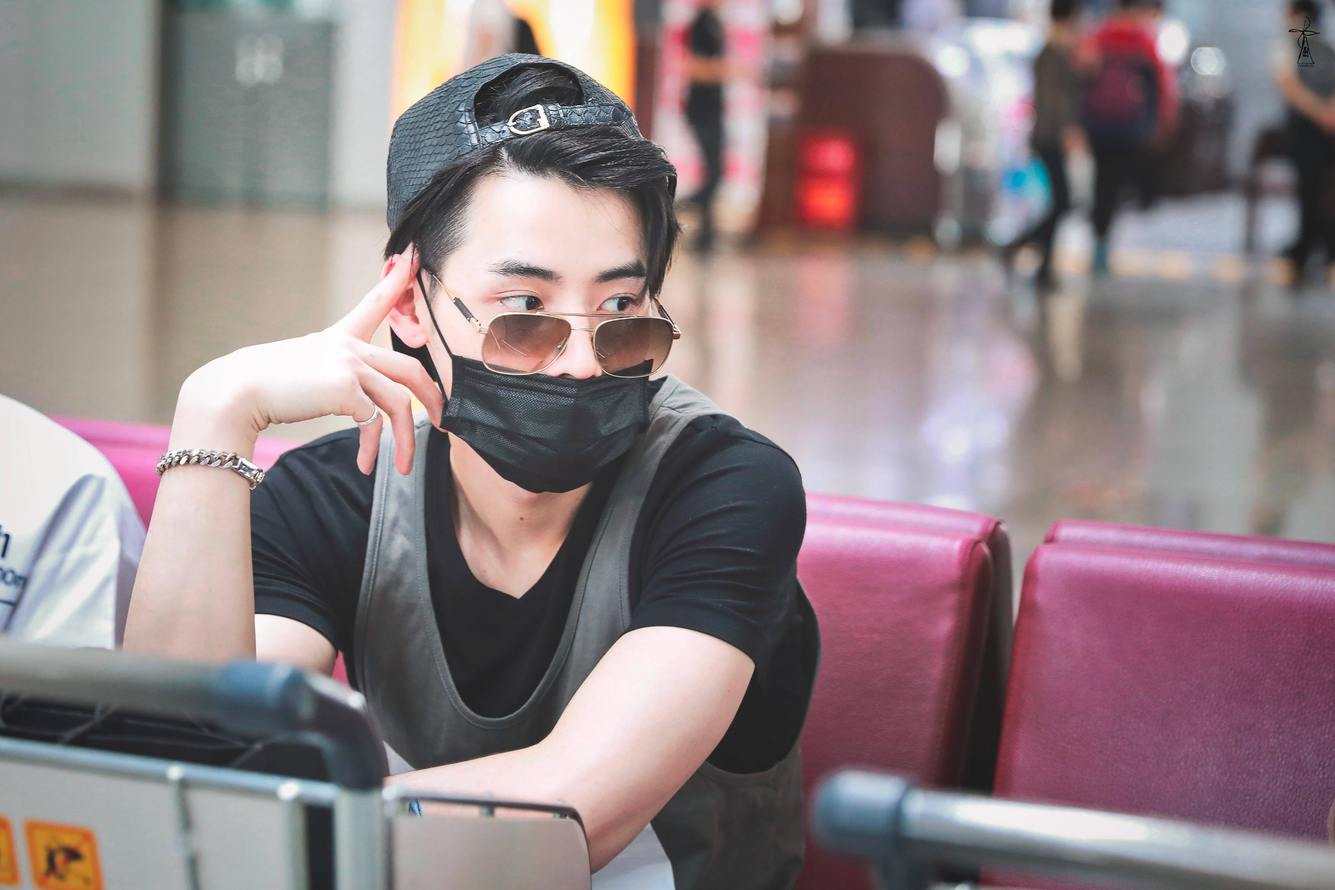WRONG: (437, 221, 655, 488)
